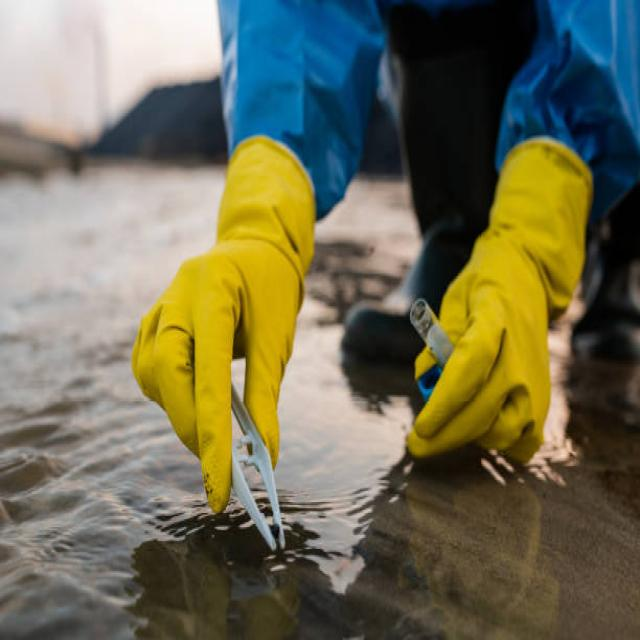gloves: (128, 134, 316, 512), (400, 136, 593, 466)
